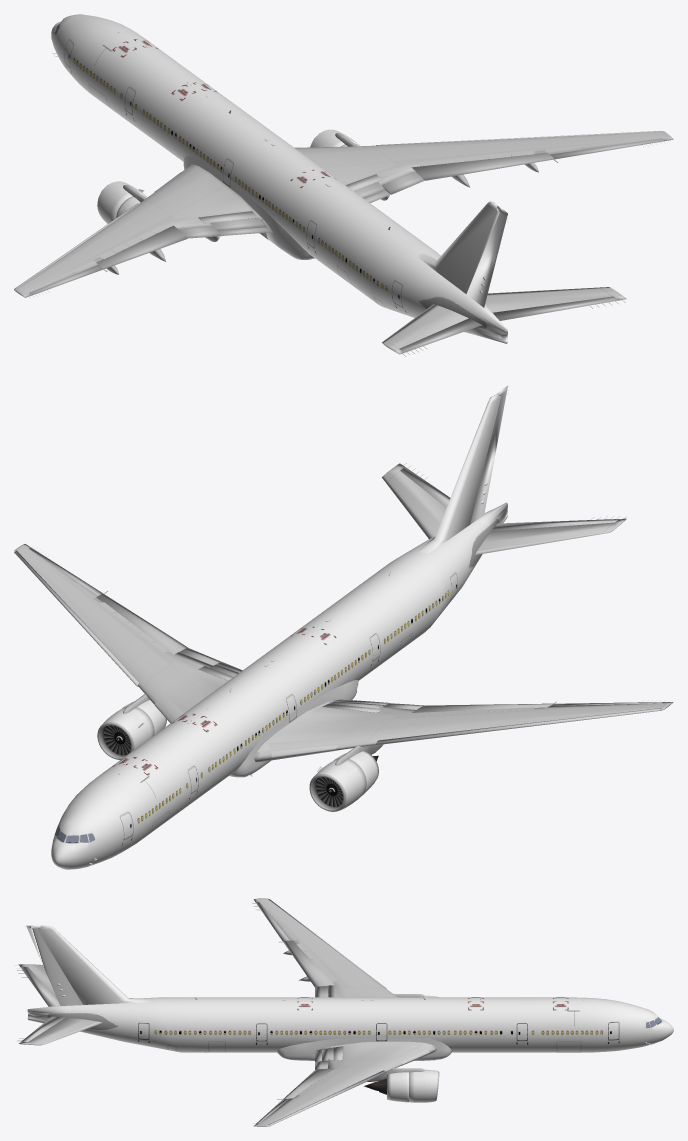
The picture shows the model from 3 angles, top to bottom: view 1: azimuth 30°, elevation 25°; view 2: azimuth 150°, elevation 25°; view 3: azimuth 270°, elevation 25°; orthographic projection. The views are drawn at different scales.
Parts seen in each view (by area): view 1: Fuselage, Wings, Fuselage_005, Tail, RHstab, LHstab, Rflap4, Rudder, Engines, Lflap4, RHelevator, LHelevator (+3 smaller); view 2: Fuselage, Wings, Fuselage_005, Tail, Engines, LHstab, RHstab, Lslat, Rudder, Rflap4, Reversers, Rslat (+3 smaller); view 3: Fuselage, Fuselage_005, Wings, Tail, Rudder, Engines, RHstab, Lflap4, cabinlighting, Reversers, LHelevator, Rslat (+3 smaller).
Part boxes in pixels (bbox=[...]): Fuselage: bbox=[51, 14, 507, 341]; Wings: bbox=[14, 131, 673, 297]; Fuselage_005: bbox=[53, 27, 507, 343]; Tail: bbox=[418, 201, 499, 293]; RHstab: bbox=[485, 287, 626, 312]; LHstab: bbox=[382, 304, 468, 356]; Rflap4: bbox=[411, 152, 553, 180]; Rudder: bbox=[466, 206, 508, 307]; Engines: bbox=[97, 129, 358, 223]; Lflap4: bbox=[96, 225, 187, 269]; RHelevator: bbox=[493, 296, 618, 320]; LHelevator: bbox=[399, 318, 482, 354]; Fuselage: bbox=[51, 502, 507, 865]; Wings: bbox=[14, 544, 673, 765]; Fuselage_005: bbox=[53, 507, 507, 869]; Tail: bbox=[418, 393, 501, 553]; Engines: bbox=[102, 706, 378, 810]; LHstab: bbox=[475, 516, 626, 554]; RHstab: bbox=[382, 463, 446, 538]; Lslat: bbox=[376, 708, 661, 745]; Rudder: bbox=[470, 385, 509, 524]; Rflap4: bbox=[96, 593, 187, 654]; Reversers: bbox=[122, 700, 378, 795]; Rslat: bbox=[15, 550, 139, 686]; Fuselage: bbox=[27, 997, 673, 1059]; Fuselage_005: bbox=[27, 997, 671, 1060]; Wings: bbox=[251, 898, 436, 1126]; Tail: bbox=[37, 925, 150, 1004]; Rudder: bbox=[23, 925, 82, 1005]; Engines: bbox=[364, 995, 437, 1102]; RHstab: bbox=[19, 1017, 102, 1045]; Lflap4: bbox=[283, 940, 334, 987]; cabinlighting: bbox=[154, 1030, 602, 1034]; Reversers: bbox=[387, 1072, 408, 1102]; LHelevator: bbox=[16, 966, 59, 1006]; Rslat: bbox=[268, 1070, 386, 1125].
Size of the model in its own units: 60.72 by 17.22 by 74.38.
17 materials, 10 textured.
